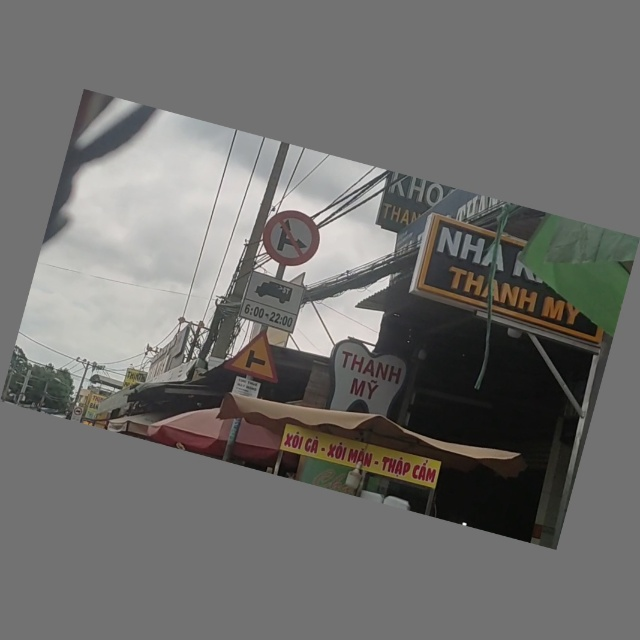P.139: (258, 205, 326, 273)
S.505a*Xe tai: (239, 271, 305, 331)
W.205b: (224, 325, 288, 385)
